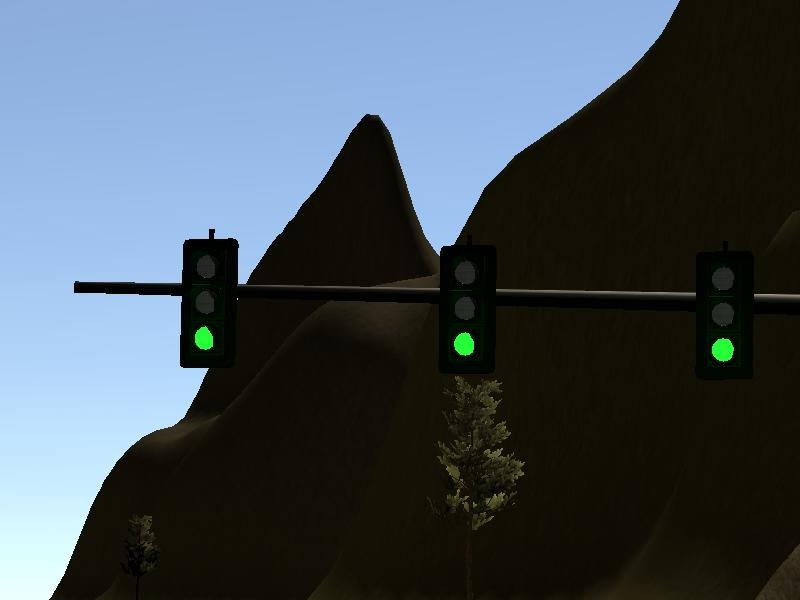green: (160, 221, 262, 379), (434, 223, 505, 372), (687, 240, 755, 382)
